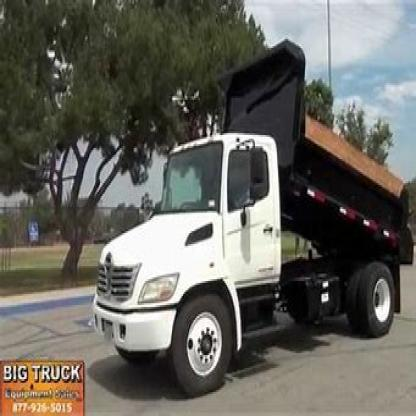dump_truck: (77, 30, 410, 394)
